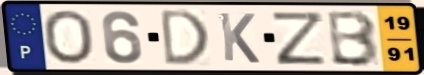6: (99, 9, 143, 66)
B: (326, 9, 382, 69)
D: (158, 8, 211, 68)
K: (216, 10, 262, 65)
O: (40, 9, 96, 66)
Z: (269, 9, 329, 67)
